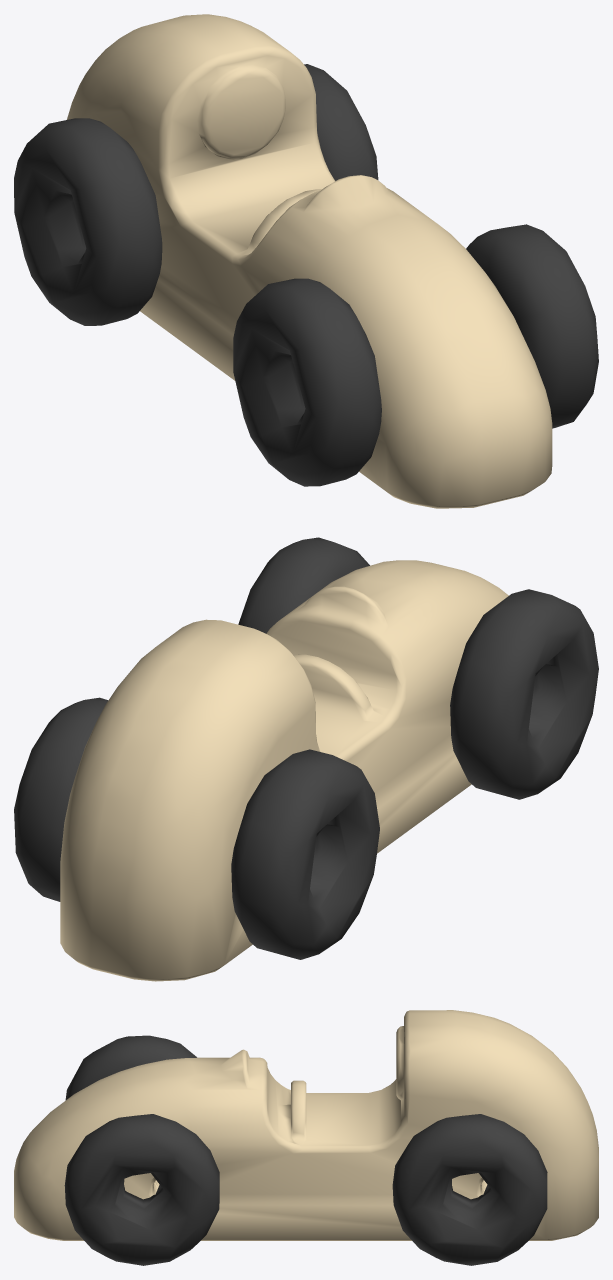
The model's file is car-racer.glb.
3 renders of one model, top to bottom at view 1: azimuth 30°, elevation 25°; view 2: azimuth 150°, elevation 25°; view 3: azimuth 270°, elevation 25°, orthographic. The views are drawn at different scales.
Visible parts, largest first — view 1: body, wheel.002, wheel, wheel.003, wheel.001; view 2: body, wheel, wheel.002, wheel.001, wheel.003; view 3: body, wheel.003, wheel.001, wheel.002.
Part boxes in pixels (x1,y1,x2,y2): body: (67,14,552,508); wheel.002: (233,278,381,486); wheel: (14,118,162,325); wheel.003: (466,224,598,428); wheel.001: (304,64,378,180); body: (60,560,508,981); wheel: (231,749,379,959); wheel.002: (450,589,598,799); wheel.001: (14,697,108,901); wheel.003: (238,537,369,633); body: (14,1010,598,1240); wheel.003: (64,1114,219,1265); wheel.001: (392,1114,547,1265); wheel.002: (65,1035,196,1100).
Size of the model in its own units: 1.34 by 1.22 by 3.2.
